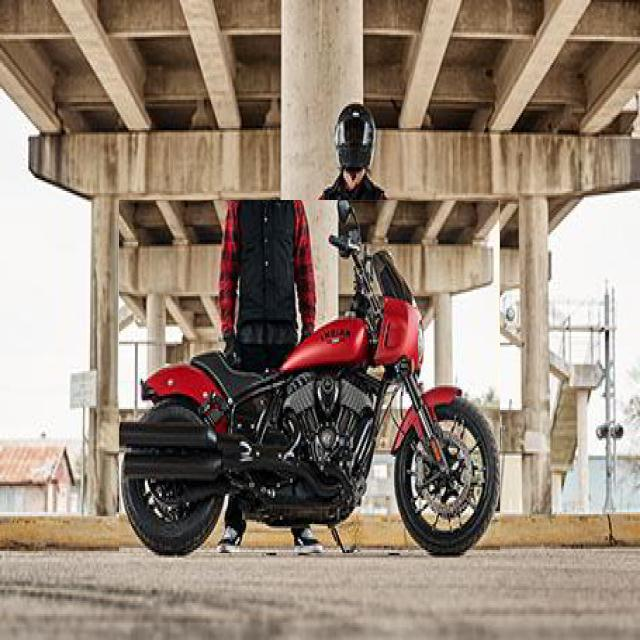motorcycle: (119, 200, 500, 553)
